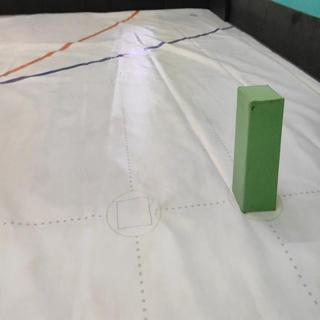greenbox: (231, 83, 286, 212)
